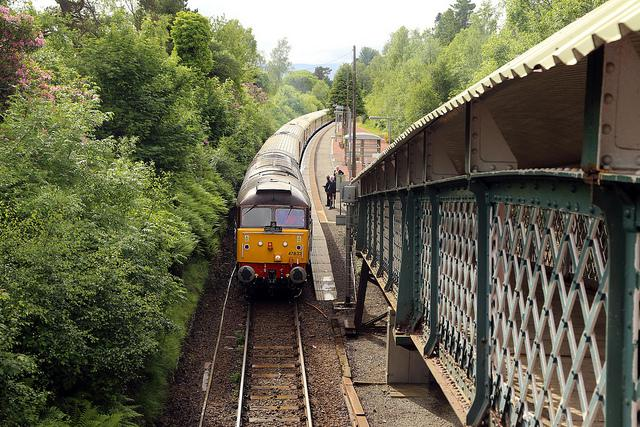Train: (235, 109, 334, 293)
